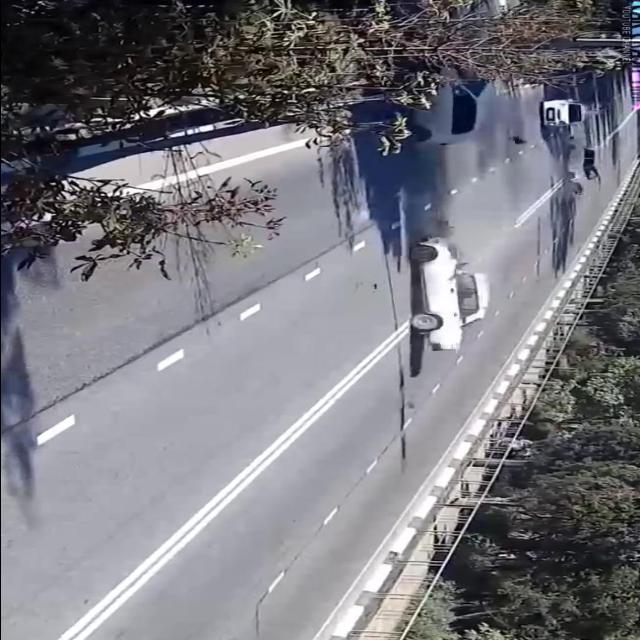accident: (387, 45, 528, 161), (397, 218, 509, 355)
